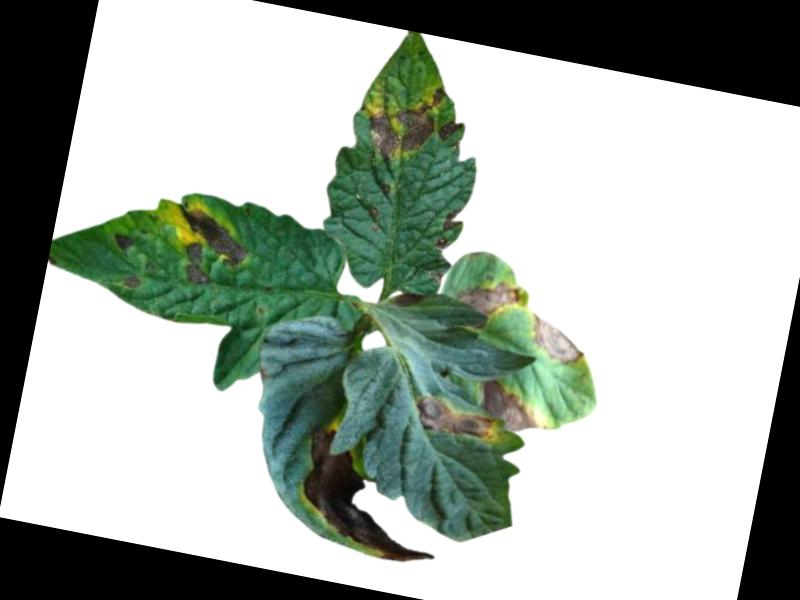Early_blight: (289, 426, 458, 570), (163, 205, 256, 294), (364, 75, 446, 169), (408, 394, 499, 445), (473, 377, 547, 439), (526, 314, 590, 368), (454, 273, 521, 324), (436, 207, 462, 253), (390, 289, 426, 315), (437, 114, 464, 145), (109, 231, 135, 255), (123, 274, 142, 290)
